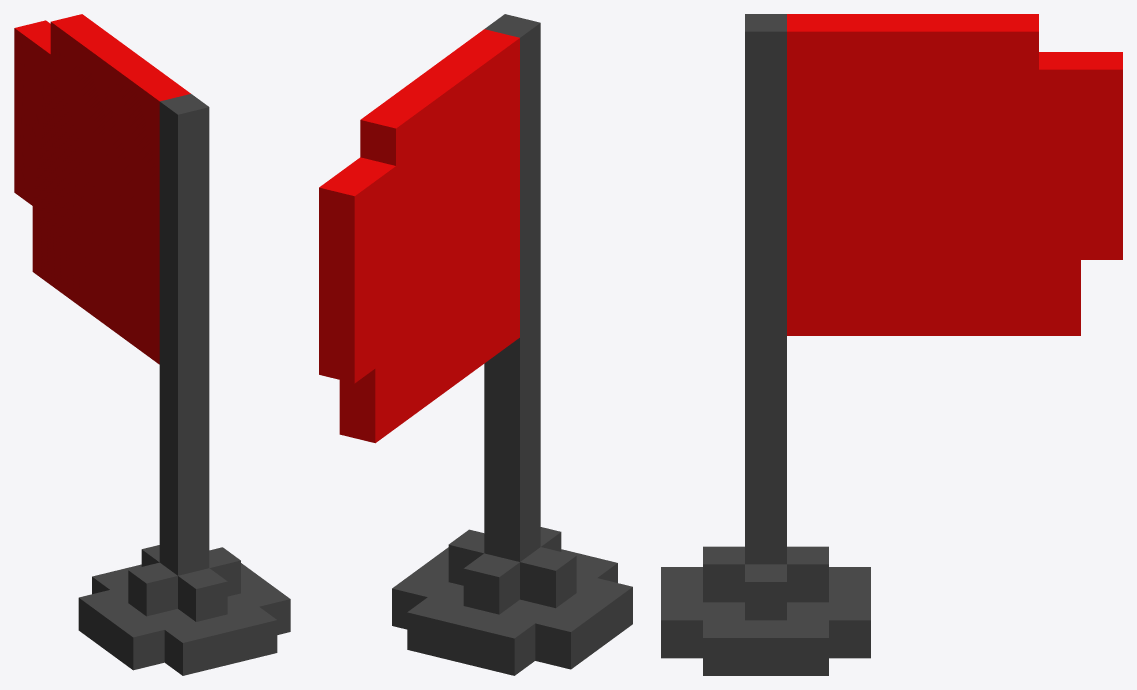
Rendered from Flag.fbx.
3 renders of one model, left to right at view 1: azimuth 30°, elevation 25°; view 2: azimuth 150°, elevation 25°; view 3: azimuth 270°, elevation 25°, orthographic. The views are drawn at different scales.
Visible parts, largest first — view 1: Spawn; view 2: Spawn; view 3: Spawn.
Boxes of the visible parts, x1,y1,x2,y2 form: Spawn: (14, 14, 290, 675); Spawn: (319, 14, 632, 675); Spawn: (661, 14, 1122, 675).
Bounding box in the file's own units: 50 × 160 × 110.
